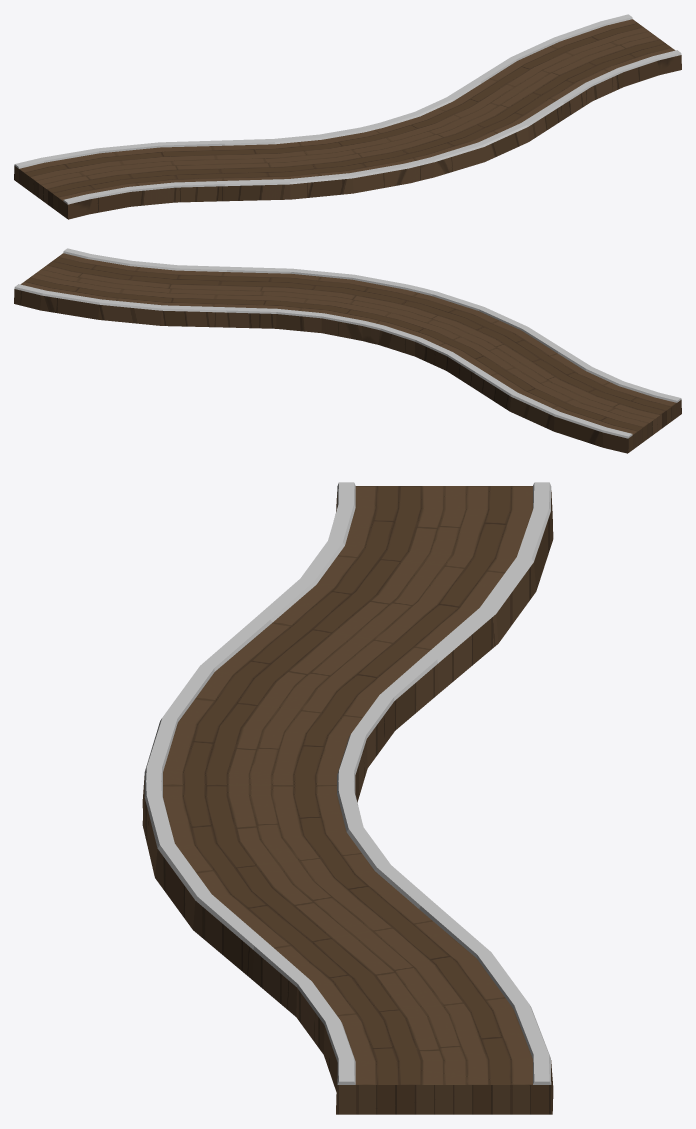
The model's file is SM_Env_Path_Curve_01.fbx.
The picture shows the model from 3 angles, top to bottom: view 1: azimuth 30°, elevation 25°; view 2: azimuth 150°, elevation 25°; view 3: azimuth 270°, elevation 25°; orthographic projection. The views are drawn at different scales.
Visible parts, largest first — view 1: SM_Env_Path_Curve_01; view 2: SM_Env_Path_Curve_01; view 3: SM_Env_Path_Curve_01.
Boxes of the visible parts, bbox=[...] form: SM_Env_Path_Curve_01: bbox=[14, 14, 681, 219]; SM_Env_Path_Curve_01: bbox=[14, 248, 681, 453]; SM_Env_Path_Curve_01: bbox=[142, 482, 553, 1114].
Size of the model in its own units: 2000 by 51.31 by 580.
